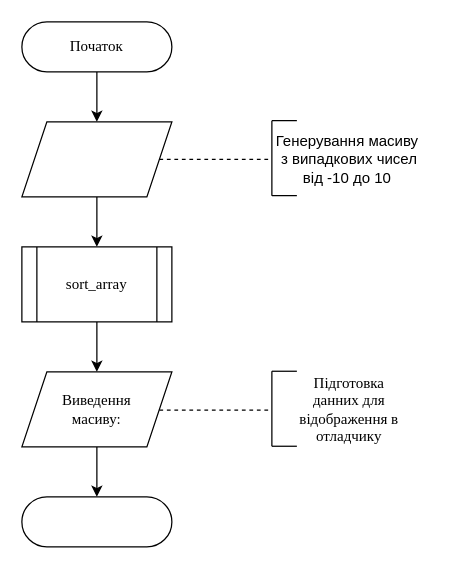
Some shapes in this 450 by 569 pixel diagram are drawn without their labels. The shapes that lost their labels are listed below. From the top down, each one's centre as x and y in pixels, then its label:
(96,159): Введення масиву:
(96,521): Кінець
